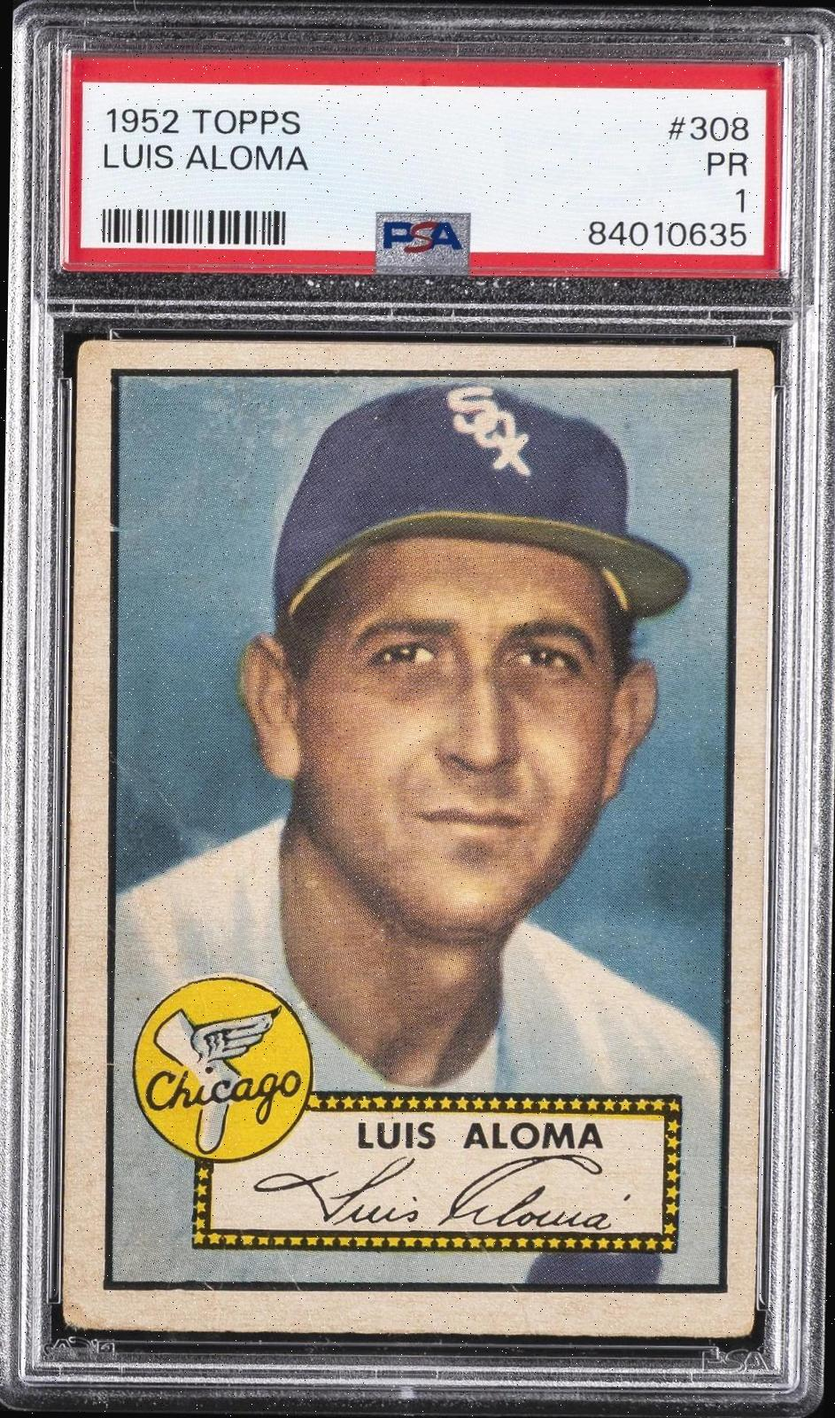card-2UtV: (60, 336, 775, 1339)
